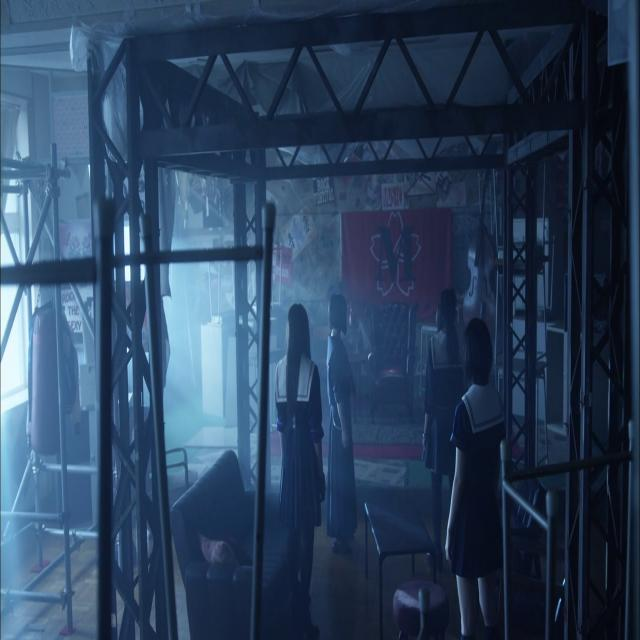People: (450, 295, 515, 626), (283, 299, 328, 634), (323, 283, 364, 558), (425, 273, 459, 562)
Table: (363, 480, 434, 570)
chair: (165, 425, 294, 640), (360, 283, 420, 434), (395, 575, 445, 640)
